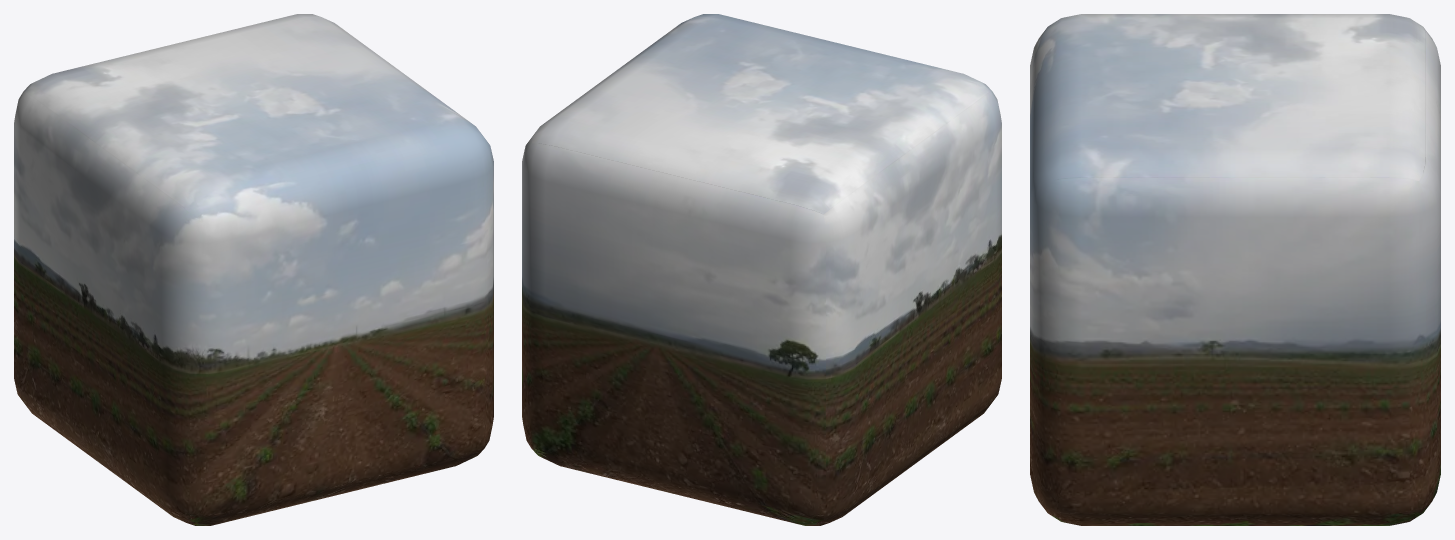
3 views of the same model, side by side, from view 1: azimuth 30°, elevation 25°; view 2: azimuth 150°, elevation 25°; view 3: azimuth 270°, elevation 25° (orthographic). The views are drawn at different scales.
Parts seen in each view (by area): view 1: SCALE5; view 2: SCALE5; view 3: SCALE5.
Part boxes in pixels (x1,y1,x2,y2): SCALE5: (14, 14, 493, 525); SCALE5: (522, 14, 1001, 525); SCALE5: (1030, 14, 1440, 525).
Size of the model in its own units: 200 by 200 by 200.
1 material, 1 textured.
